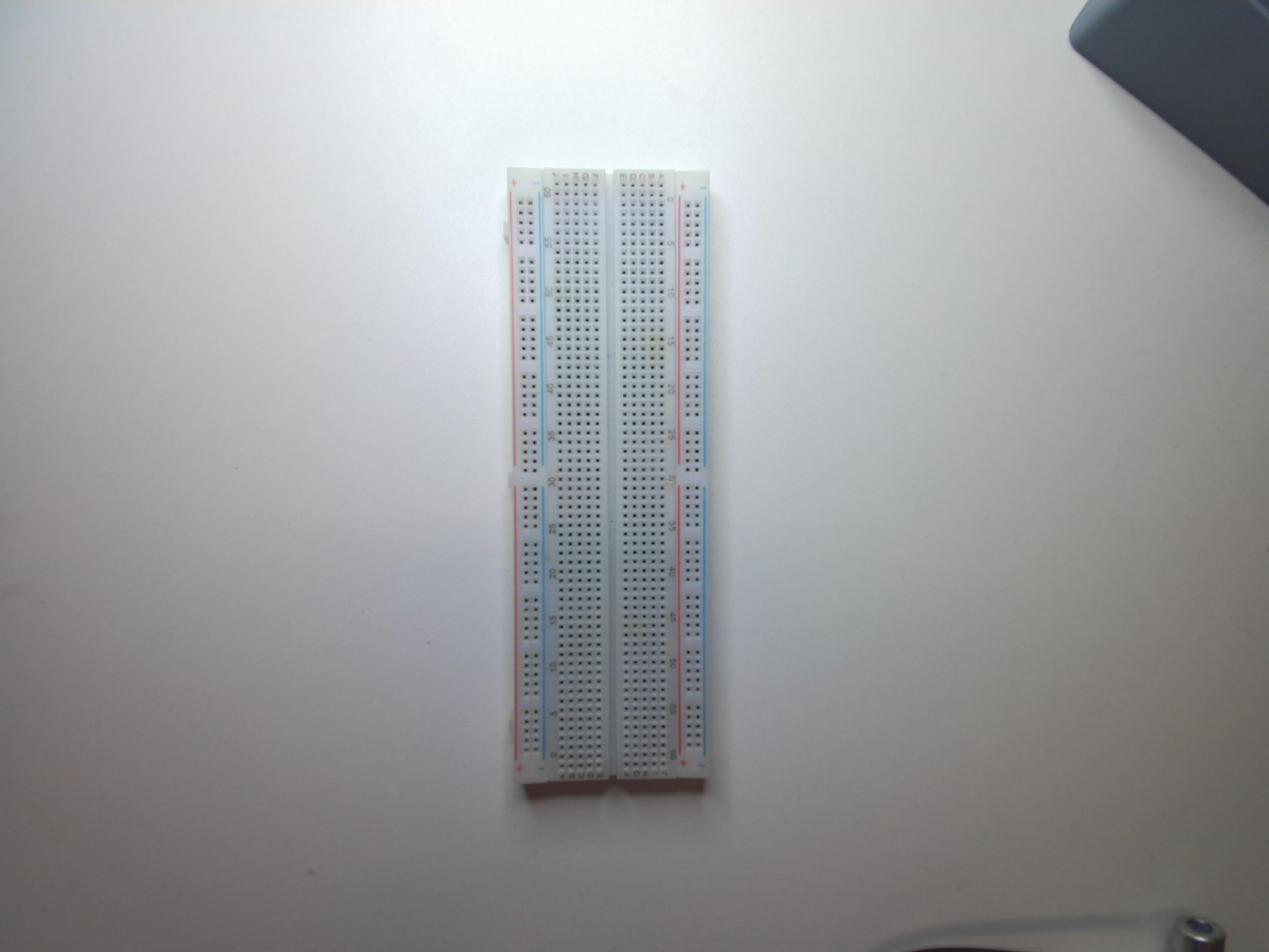base: (504, 160, 719, 794)
